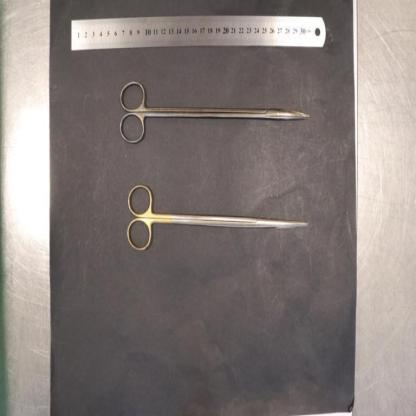7 Metzenbaum Scissors: (125, 181, 308, 252)
9 Metzenbaum Scissors: (118, 79, 309, 147)
